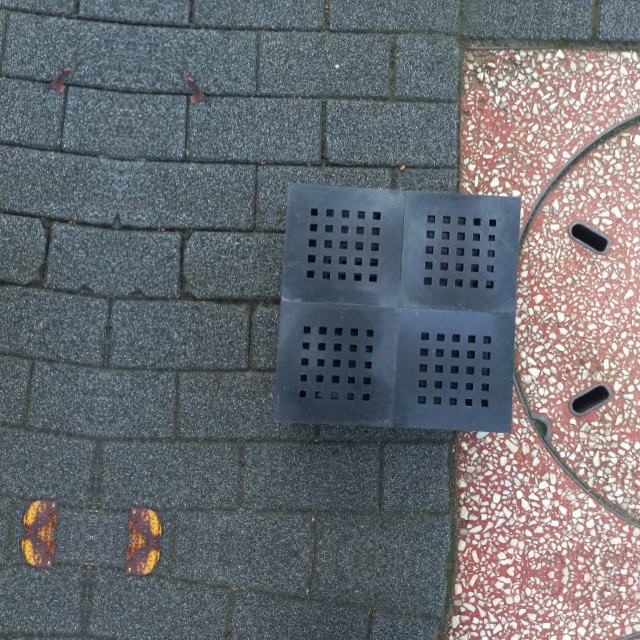pallet: (265, 182, 523, 437)
